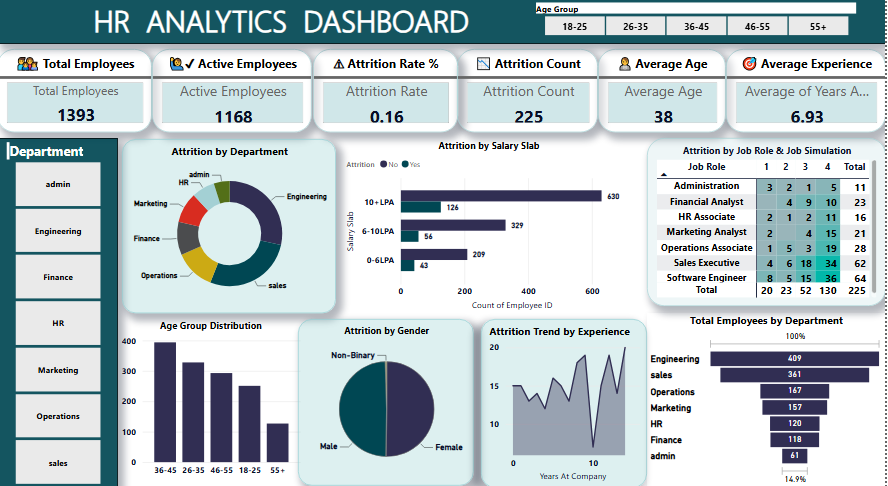

The dashboard page shown, as its layout file describes it:
{"tool":"powerbi","page":{"name":"Page 1","canvas":[1280,720],"ordinal":0},"visuals":[{"type":"cardVisual","title":"👨👩👦👦 Total Employees","fields":{"Data":["data.Total Employees"]},"box":[0,87.8,223.2,119.5],"z":0},{"type":"cardVisual","title":"🙋♂️✔ Active Employees","fields":{"Data":["data.Active Employees"]},"box":[223.2,87.8,230.4,119.5],"z":1000},{"type":"cardVisual","title":"⚠ Attrition Rate %","fields":{"Data":["data.Attrition Rate"]},"box":[455,87.8,208.8,119.5],"z":2000},{"type":"cardVisual","title":"📉 Attrition Count","fields":{"Data":["data.Attrition Count"]},"box":[662.4,87.8,203,119.5],"z":3000},{"type":"cardVisual","title":"👨💼 Average Age","fields":{"Data":["data.Average Age"]},"box":[865.4,87.8,184.3,119.5],"z":4000},{"type":"cardVisual","title":"🎯 Average Experience","fields":{"Data":["Avg(data.Years At Company)"]},"box":[1049.8,87.8,230.4,119.5],"z":5000},{"type":"textbox","box":[0,11.5,1280.2,69.1],"z":6000},{"type":"slicer","fields":{"Values":["data.Department"]},"box":[0,216,174.2,504],"z":7000},{"type":"donutChart","title":"Attrition by Department","fields":{"Category":["data.Department"],"Y":["data.Attrition Count"]},"box":[180,217.4,308.2,250.6],"z":8000},{"type":"clusteredColumnChart","title":" Age Group Distribution","fields":{"Category":["data.Age Group"],"Y":["data.Total Employees"]},"box":[174.2,476.6,267.8,236.2],"z":9000},{"type":"pieChart","title":"Attrition by Gender","fields":{"Category":["data.Gender"],"Y":["data.Attrition Count"]},"box":[433.4,476.6,253.4,240.5],"z":10000},{"type":"lineChart","title":"Attrition Trend by Experience","fields":{"Category":["data.Years At Company"],"Y":["data.Attrition Count"]},"box":[697,476.6,239,243.4],"z":11000},{"type":"clusteredBarChart","title":"Attrition by Salary Slab","fields":{"Category":["data.Salary Slab"],"Series":["data.Attrition"],"Y":["CountNonNull(data.Employee ID)"]},"box":[498.2,217.4,420.5,250.6],"z":12000},{"type":"funnel","fields":{"Category":["data.Department"],"Y":["data.Total Employees"]},"box":[936,468,344.2,252],"z":13000},{"type":"pivotTable","title":"Attrition by Job Role & Job Simulation","fields":{"Rows":["data.Job Role"],"Values":["data.Attrition Count"],"Columns":["data.Job Satisfaction"]},"box":[936,216,344.2,241.9],"z":14000},{"type":"slicer","fields":{"Values":["data.Age Group"]},"box":[763.2,15.8,486.7,59],"z":15000}]}

Visuals, with their boxes in screenshot pixels (x1, y1, x2, y2), scaled from the page's 1280x720 canvas onto the 888x486 screenshot:
"👨👩👦👦 Total Employees" cardVisual: bbox=(0, 59, 155, 140)
"🙋♂️✔ Active Employees" cardVisual: bbox=(155, 59, 315, 140)
"⚠ Attrition Rate %" cardVisual: bbox=(316, 59, 461, 140)
"📉 Attrition Count" cardVisual: bbox=(460, 59, 600, 140)
"👨💼 Average Age" cardVisual: bbox=(600, 59, 728, 140)
"🎯 Average Experience" cardVisual: bbox=(728, 59, 887, 140)
textbox: bbox=(0, 8, 887, 54)
slicer - data.Department: bbox=(0, 146, 121, 485)
"Attrition by Department" donutChart: bbox=(125, 147, 339, 316)
" Age Group Distribution" clusteredColumnChart: bbox=(121, 322, 307, 481)
"Attrition by Gender" pieChart: bbox=(301, 322, 476, 484)
"Attrition Trend by Experience" lineChart: bbox=(484, 322, 649, 485)
"Attrition by Salary Slab" clusteredBarChart: bbox=(346, 147, 637, 316)
funnel - data.Department x data.Total Employees: bbox=(649, 316, 887, 485)
"Attrition by Job Role & Job Simulation" pivotTable: bbox=(649, 146, 887, 309)
slicer - data.Age Group: bbox=(529, 11, 867, 50)
